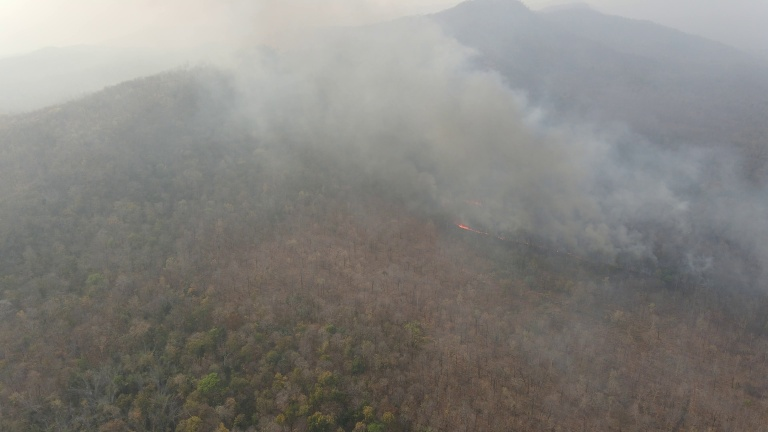fire: (449, 218, 506, 239), (559, 249, 582, 261), (464, 198, 484, 207)
smoke: (216, 5, 702, 256)
